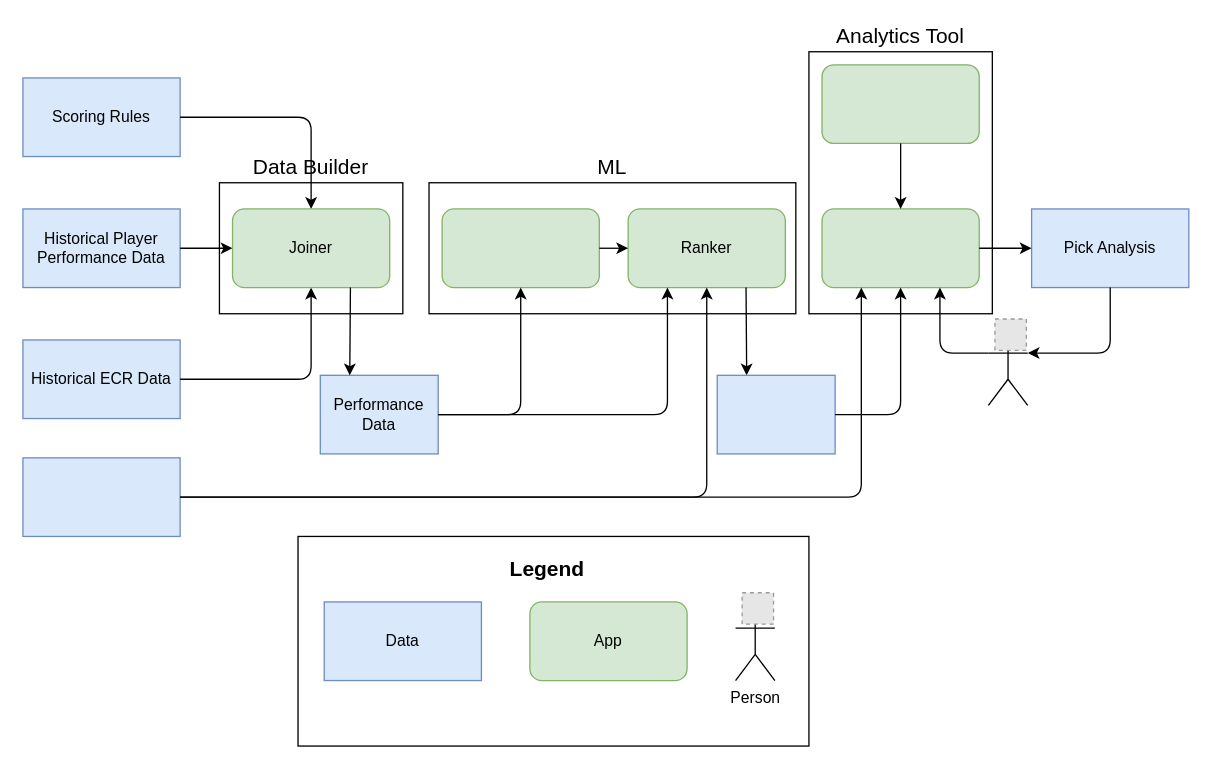
This 1212x769 diagram has some shape labels left out. Grey dashed boxes stand in for pictures. The shapes that lost their labels are listed below. From the top down, each one's box as (x1, y1, x2, y2) in pixels, then its label:
(821, 64, 979, 143): Draft Logic
(441, 208, 599, 288): Projecter
(821, 208, 979, 288): Drafter
(987, 326, 1028, 405): Real Time Draft Input
(716, 374, 835, 454): Tier and Projection Data
(22, 457, 180, 536): Current Year ECR
